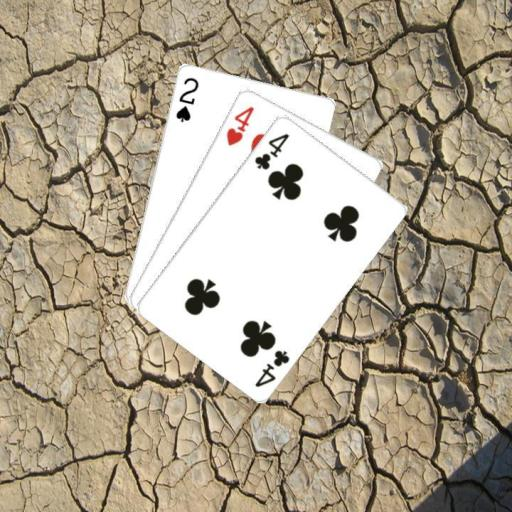2S: (172, 73, 200, 124)
4C: (251, 347, 292, 389), (251, 130, 291, 172)
4H: (223, 103, 255, 148)
